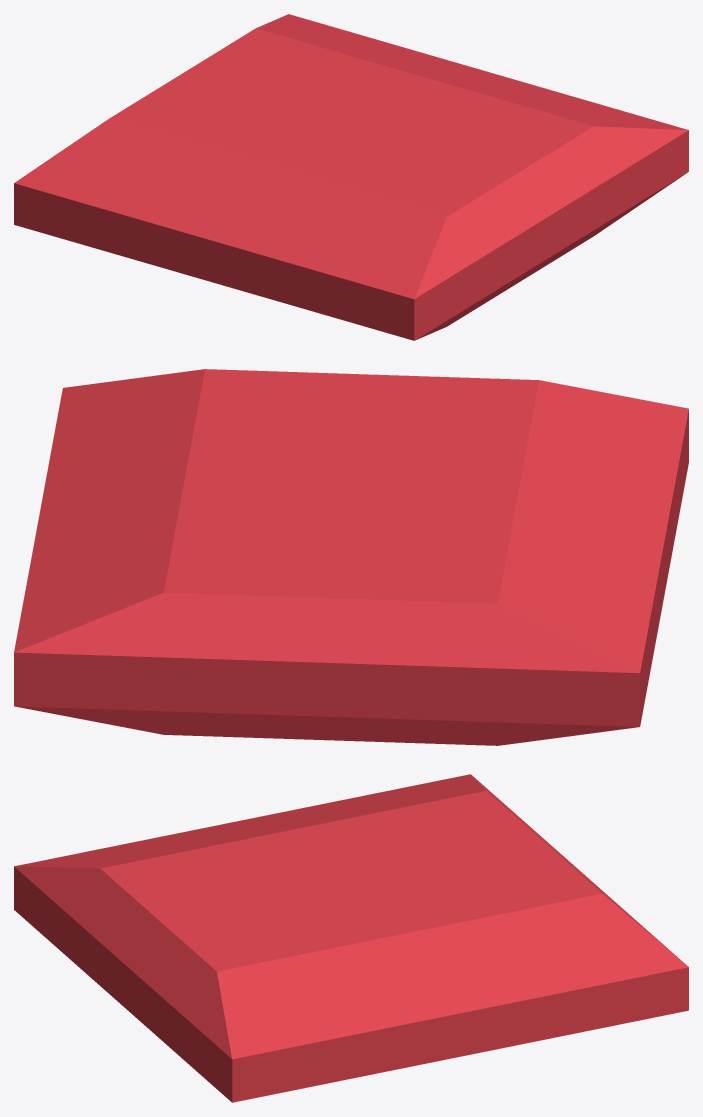
File: Cusion.fbx
3 renders of one model, top to bottom at view 1: azimuth 30°, elevation 25°; view 2: azimuth 150°, elevation 25°; view 3: azimuth 270°, elevation 25°, orthographic. The views are drawn at different scales.
Visible parts, largest first — view 1: Cusion; view 2: Cusion; view 3: Cusion.
Boxes of the visible parts, x1,y1,x2,y2 form: Cusion: [14, 14, 688, 340]; Cusion: [14, 369, 688, 745]; Cusion: [14, 774, 688, 1102].
Bounding box in the file's own units: 53.34 × 10 × 53.34.
